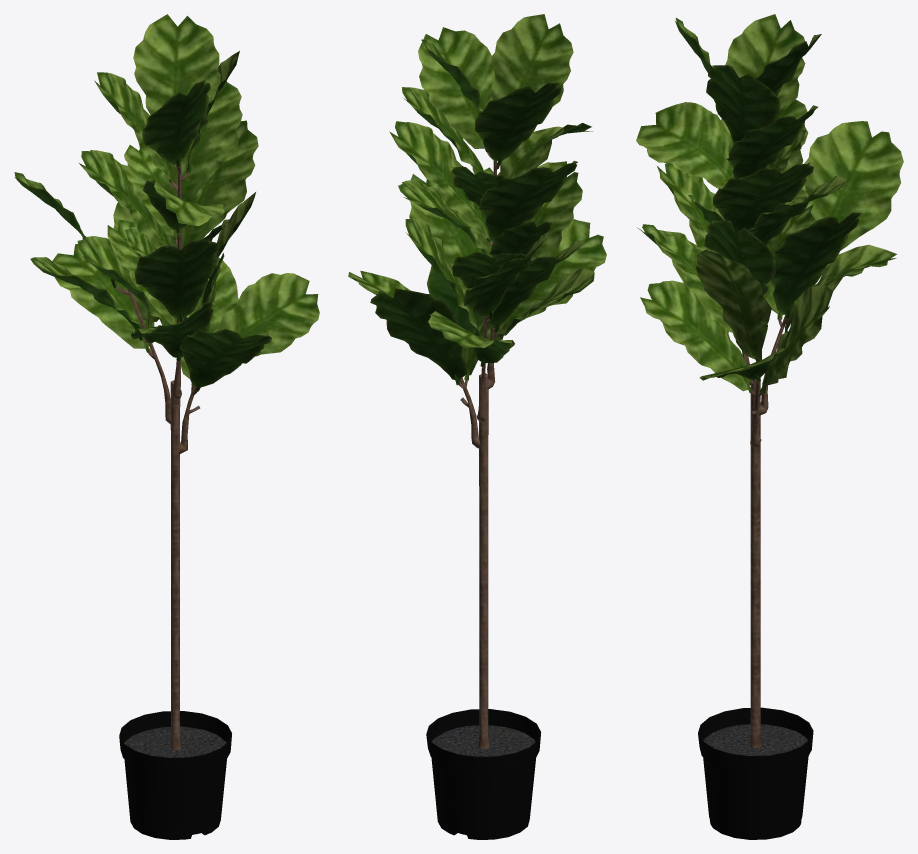
The model's file is ikea-fejka-80568890-fiddle-leaf-fig.glb.
3 views of the same model, side by side, from view 1: azimuth 30°, elevation 25°; view 2: azimuth 150°, elevation 25°; view 3: azimuth 270°, elevation 25° (orthographic). The views are drawn at different scales.
Visible parts, largest first — view 1: Mesh_0; view 2: Mesh_0; view 3: Mesh_0.
Boxes of the visible parts, x1,y1,x2,y2 form: Mesh_0: (14,14,319,839); Mesh_0: (348,14,606,839); Mesh_0: (636,14,903,839).
Bounding box in the file's own units: 0.4989 × 1.45 × 0.4417.
Materials: 1 (1 with a texture image).
